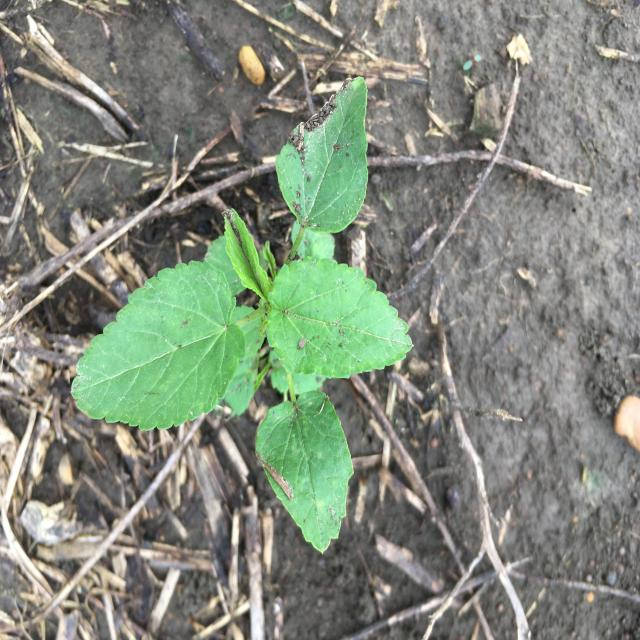PricklySida: (71, 76, 413, 554)
